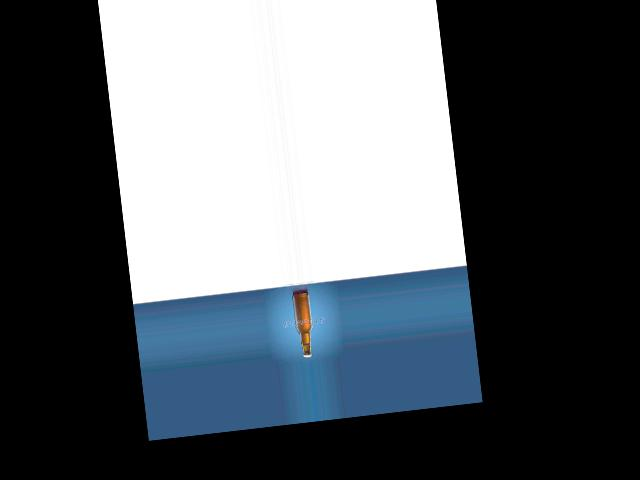beer: (291, 291, 315, 358)
